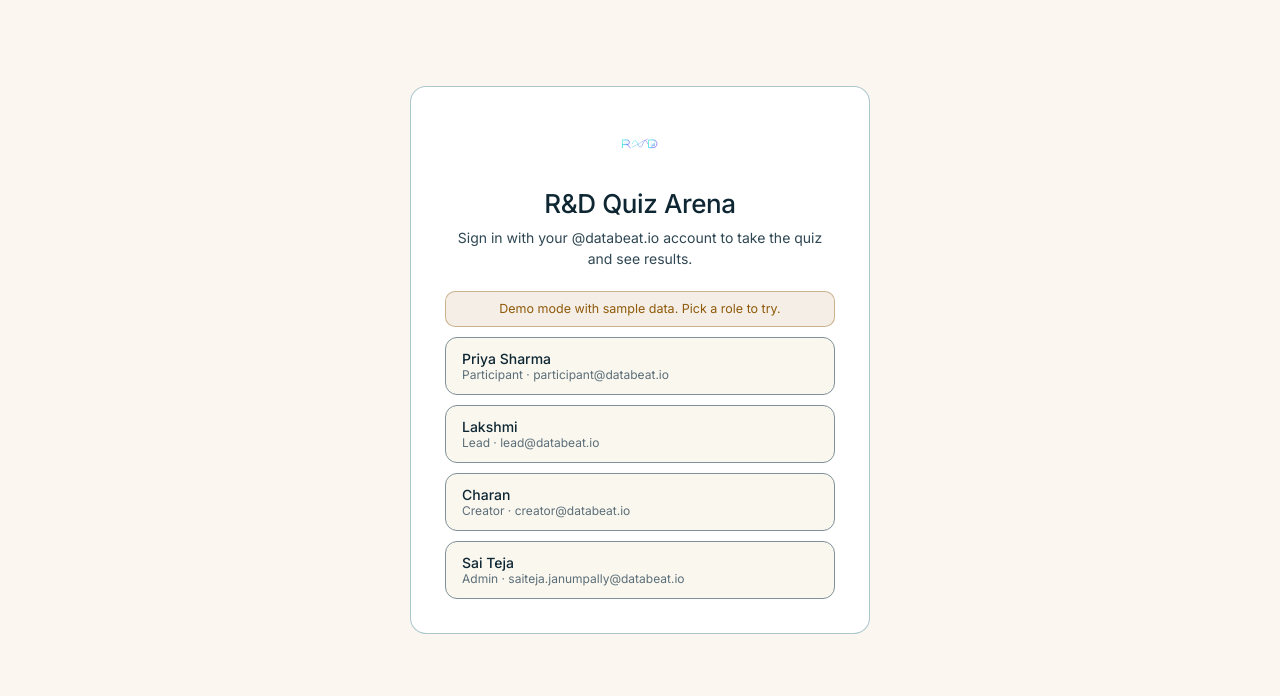
Scenario: admin journey › admin can create and publish a quiz in the editor with validation
This screenshot has width=1280, height=696.
Click the button "Sai Teja Admin · saiteja.janumpally@databeat.io". click: coordinates (640, 570)
box: left=445, top=541, right=835, bottom=599
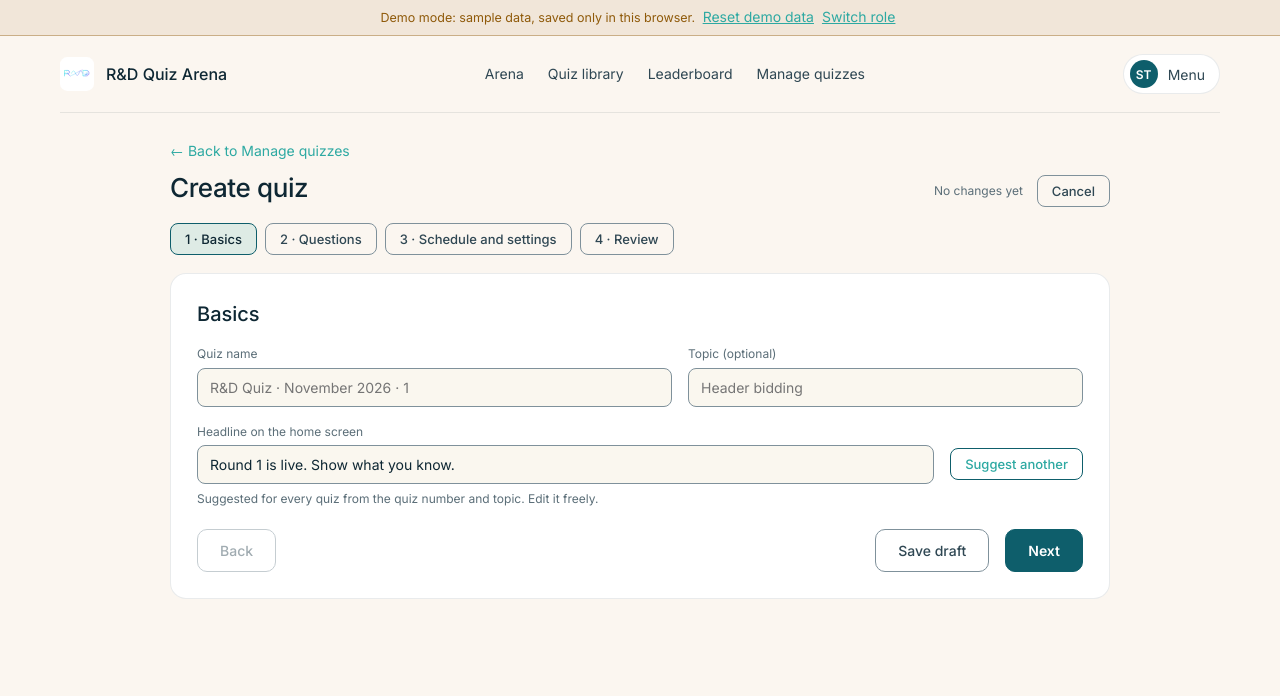
Check: the text "Create quiz" is shown, box left=170, top=172, right=308, bottom=203
Click the button "4 · Review". click: coordinates (627, 239)
box: left=580, top=223, right=674, bottom=255
(page scrolled)
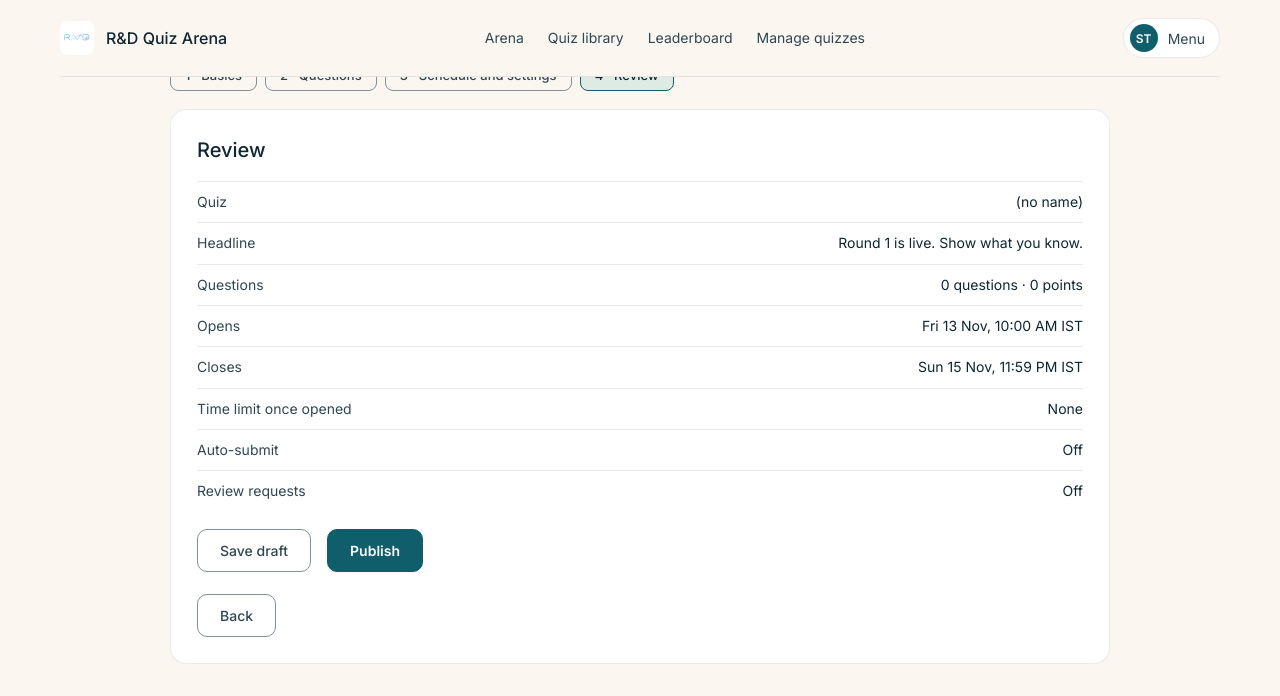
Click the button "Publish". click: coordinates (375, 551)
box: left=327, top=530, right=423, bottom=572
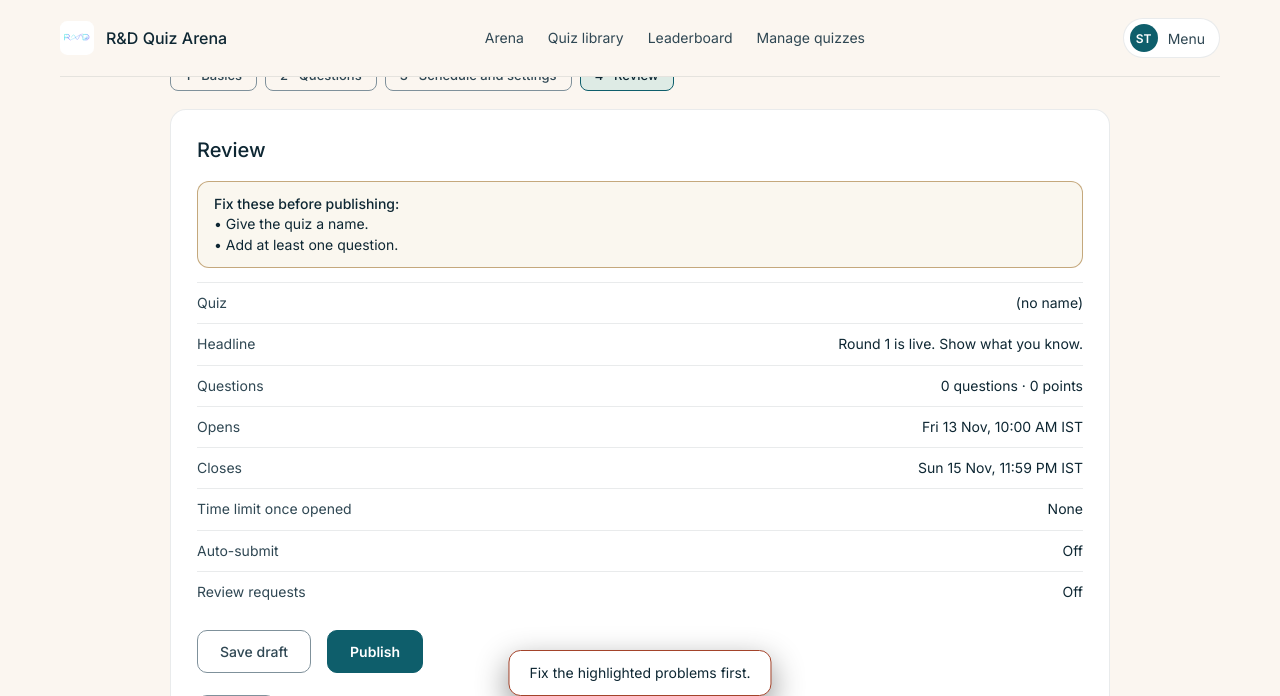
Check: the text "Fix these before publishing:" is shown, box left=214, top=195, right=399, bottom=212
Check: the text "• Give the quiz a name." is shown, box left=214, top=215, right=369, bottom=232
